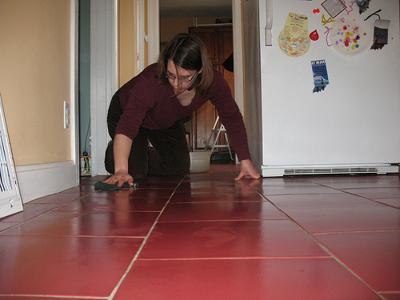person: (95, 33, 262, 190)
